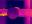Hotspot: (1, 13, 7, 16)
